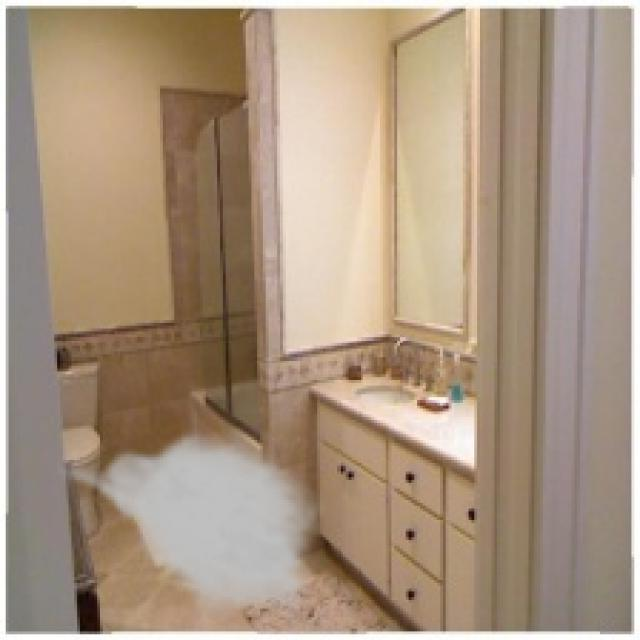smoke: (51, 426, 326, 626)
